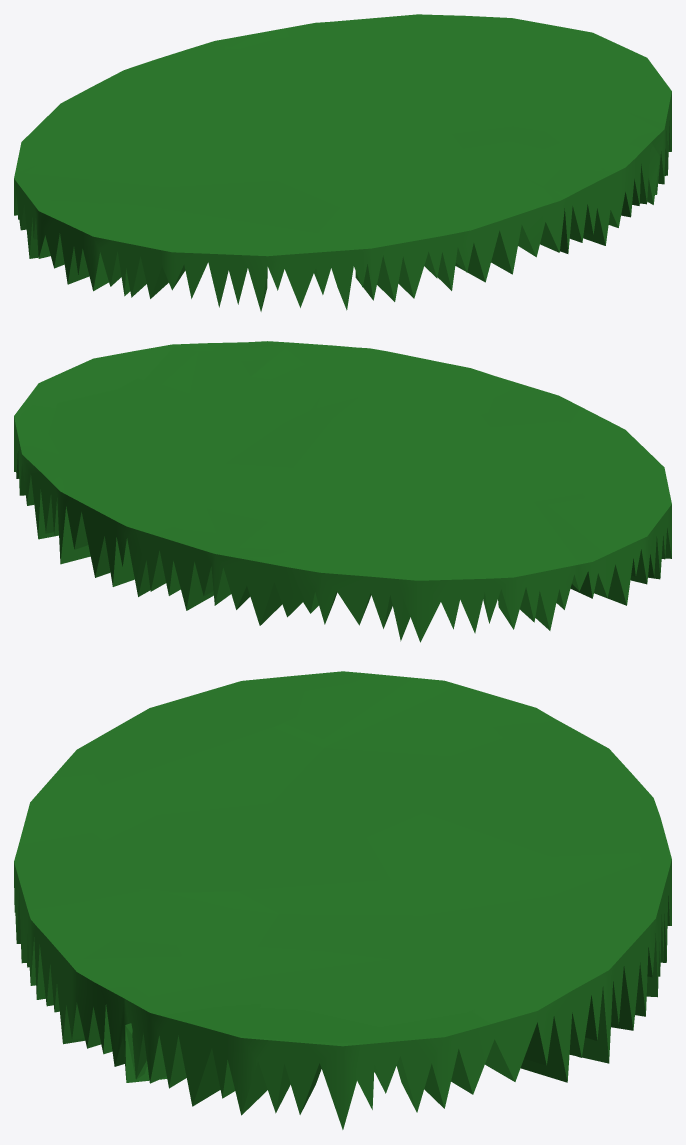
File: grass_layer_ellipse_medium.fbx
The picture shows the model from 3 angles, top to bottom: view 1: azimuth 30°, elevation 25°; view 2: azimuth 150°, elevation 25°; view 3: azimuth 270°, elevation 25°; orthographic projection. The views are drawn at different scales.
Visible parts, largest first — view 1: grass_layer_ellipse_medium; view 2: grass_layer_ellipse_medium; view 3: grass_layer_ellipse_medium.
Boxes of the visible parts, x1=… form: grass_layer_ellipse_medium: x1=14, y1=14, x2=671, y2=311; grass_layer_ellipse_medium: x1=14, y1=341, x2=671, y2=642; grass_layer_ellipse_medium: x1=14, y1=671, x2=671, y2=1129.
Bounding box in the file's own units: 943 × 111 × 688.
